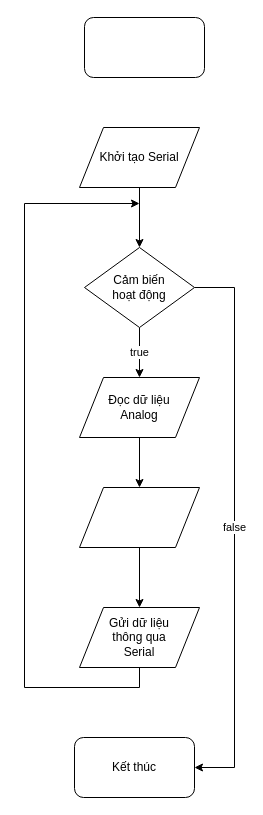
The diagram is 263 pixels wide and 815 high, and some of its shapes have lost their labels. Here are the shapes that lost their labels. From the top down, the box of each, then its label:
(84, 16, 204, 78): Bắt đầu
(78, 486, 200, 548): Chuyển dữ liệu về chuỗi
